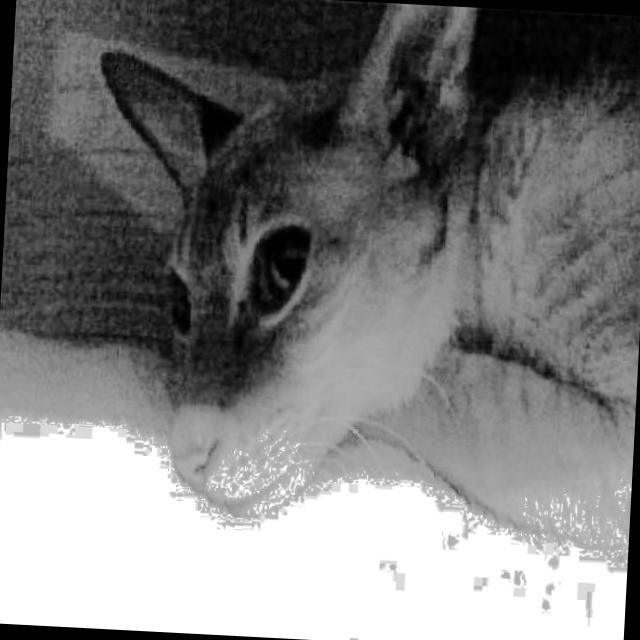Cat: (73, 0, 640, 551)
